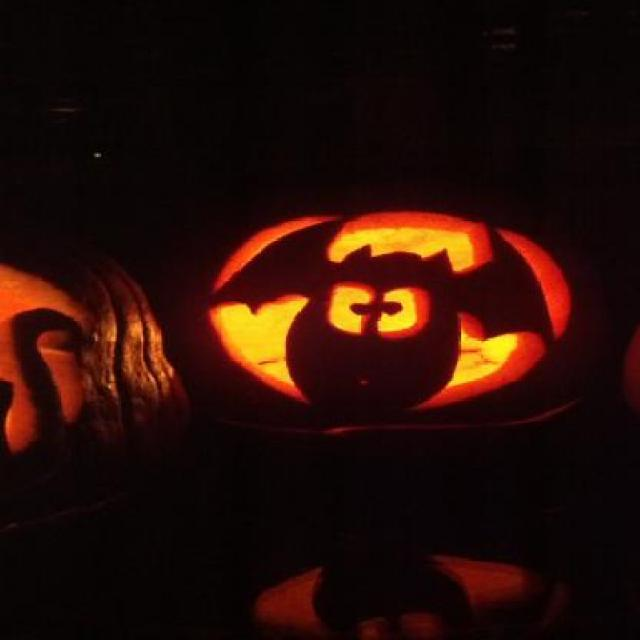Pumpkin: (188, 200, 590, 418), (2, 239, 188, 481)
